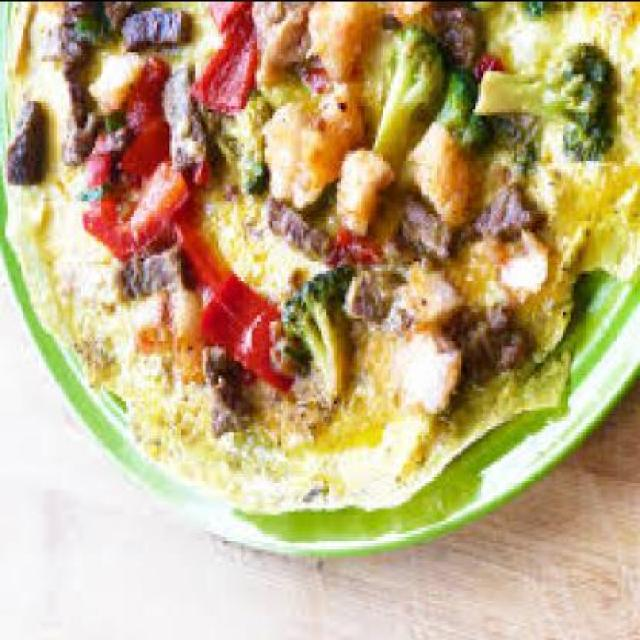BIODEGRADABLE: (2, 3, 635, 514)
